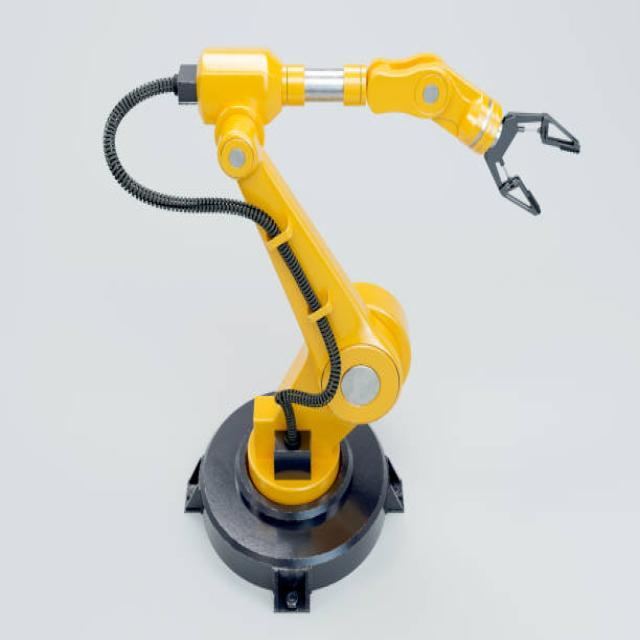Robotic-arm: (95, 27, 582, 640)
